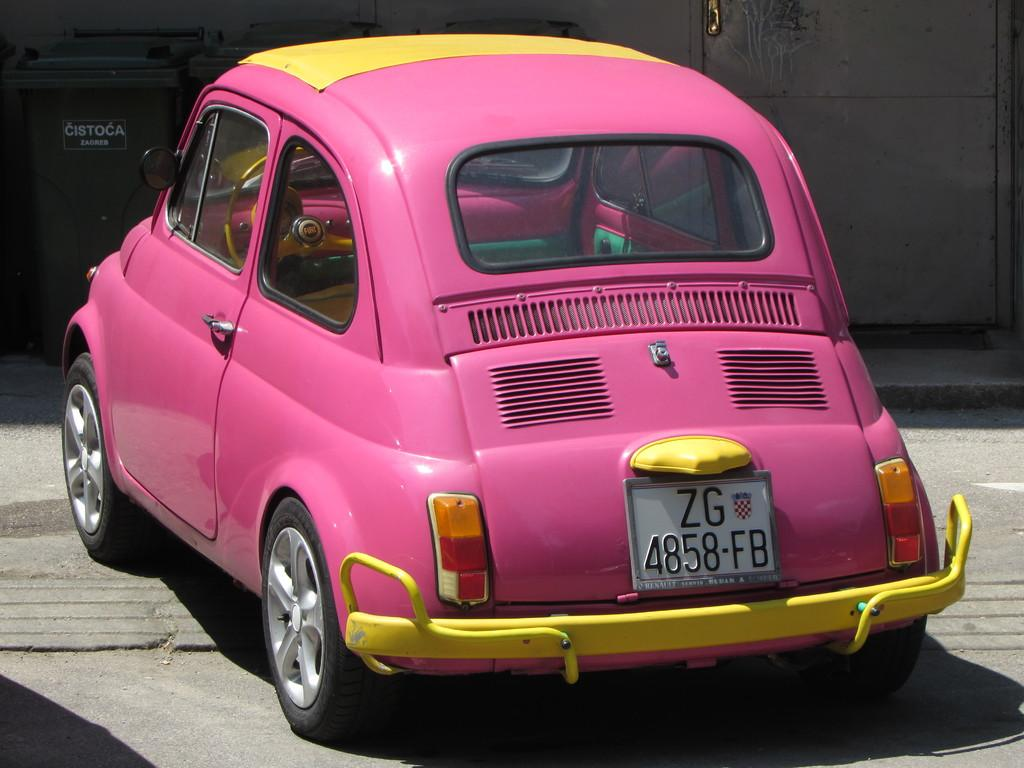vehicle: (56, 31, 975, 741)
